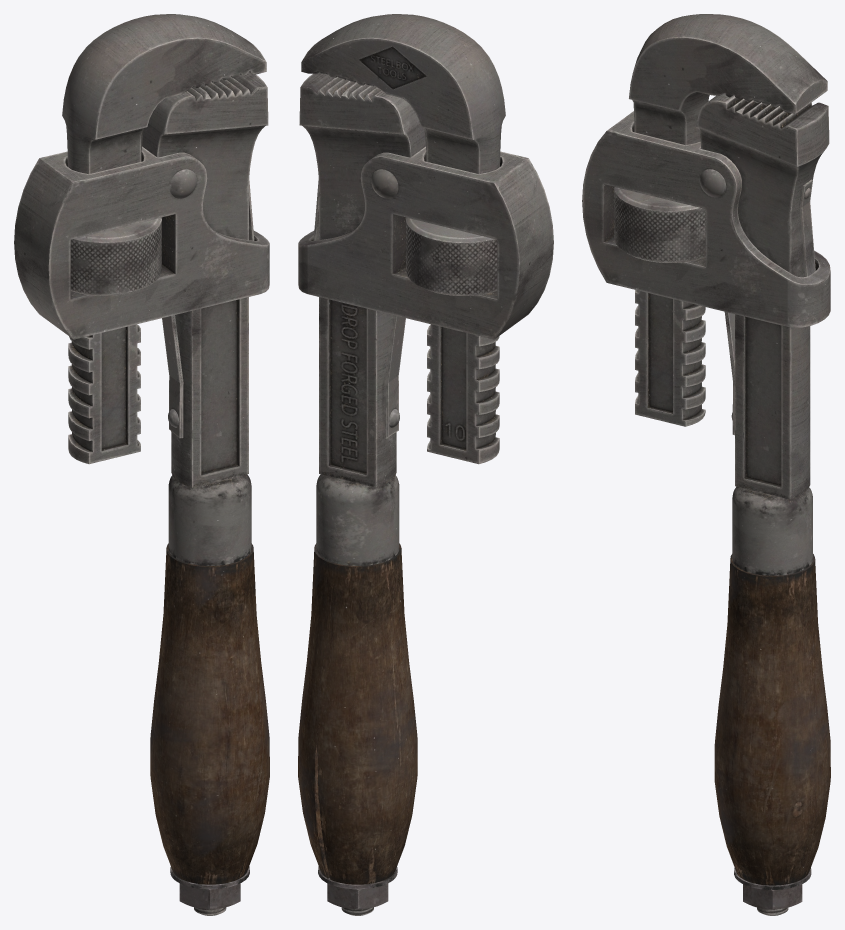
Rendered from adjustable_wrench.glb.
3 renders of one model, left to right at view 1: azimuth 30°, elevation 25°; view 2: azimuth 150°, elevation 25°; view 3: azimuth 330°, elevation 25°, orthographic. The views are drawn at different scales.
Parts seen in each view (by area): view 1: adjustable_wrench, adjustable_wrench_jaw, adjustable_wrench_nut; view 2: adjustable_wrench, adjustable_wrench_jaw, adjustable_wrench_nut; view 3: adjustable_wrench, adjustable_wrench_jaw, adjustable_wrench_nut.
Boxes of the visible parts, <box> form: adjustable_wrench: <box>14,72,269,915</box>; adjustable_wrench_jaw: <box>62,14,266,464</box>; adjustable_wrench_nut: <box>70,217,161,295</box>; adjustable_wrench: <box>298,72,553,915</box>; adjustable_wrench_jaw: <box>301,14,505,464</box>; adjustable_wrench_nut: <box>406,217,497,295</box>; adjustable_wrench: <box>582,93,830,915</box>; adjustable_wrench_jaw: <box>629,14,827,426</box>; adjustable_wrench_nut: <box>614,187,705,262</box>.
Size of the model in its own units: 0.0683 by 0.2541 by 0.0306.
Materials: 1 (1 with a texture image).
